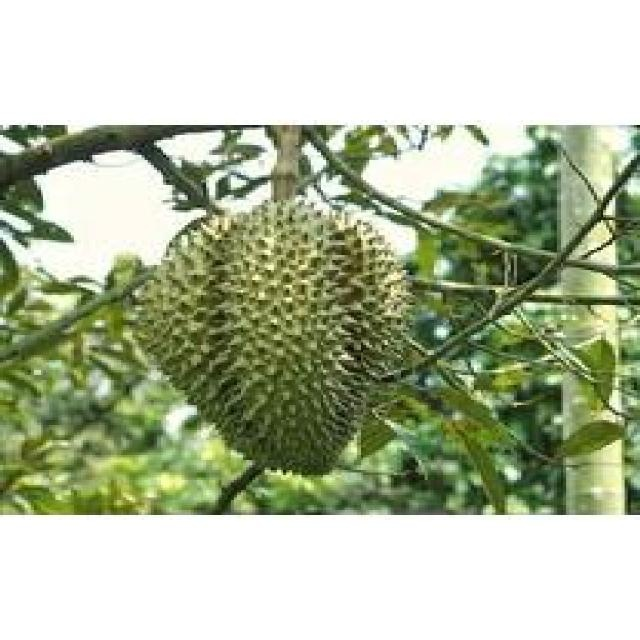agrume: (117, 190, 428, 482)
